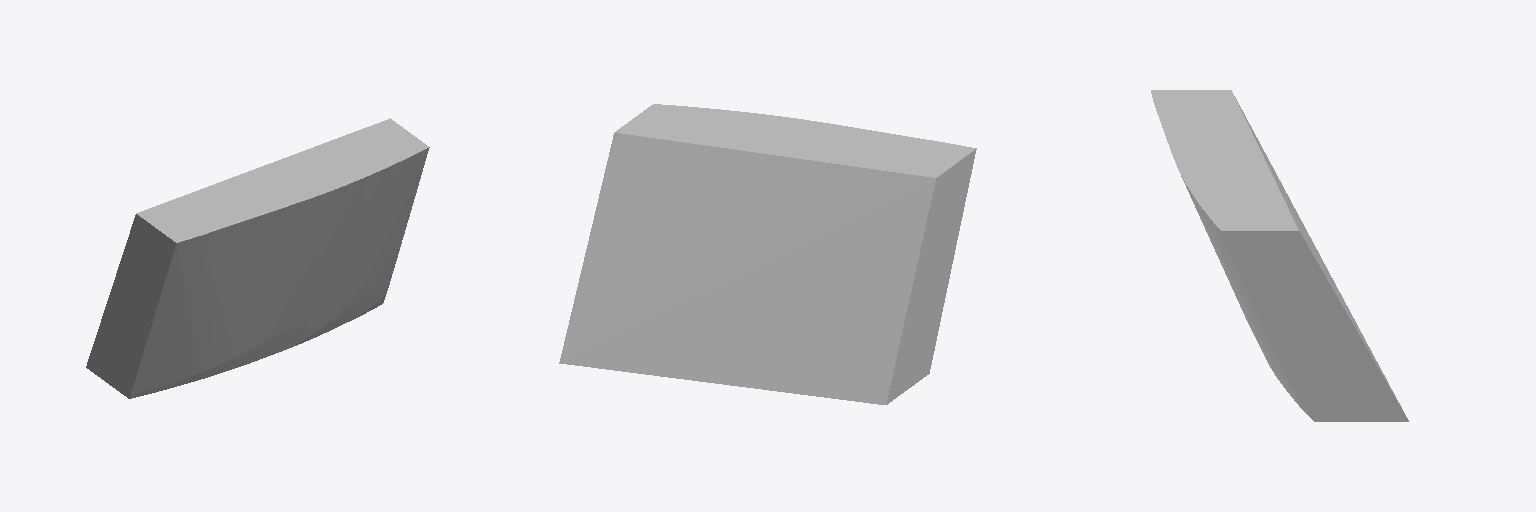
Rendered from skillet_collision_7.obj.
3 renders of one model, left to right at view 1: azimuth 30°, elevation 25°; view 2: azimuth 150°, elevation 25°; view 3: azimuth 270°, elevation 25°, orthographic.
Size of the model in its own units: 0.0359 by 0.0227 by 0.0279.